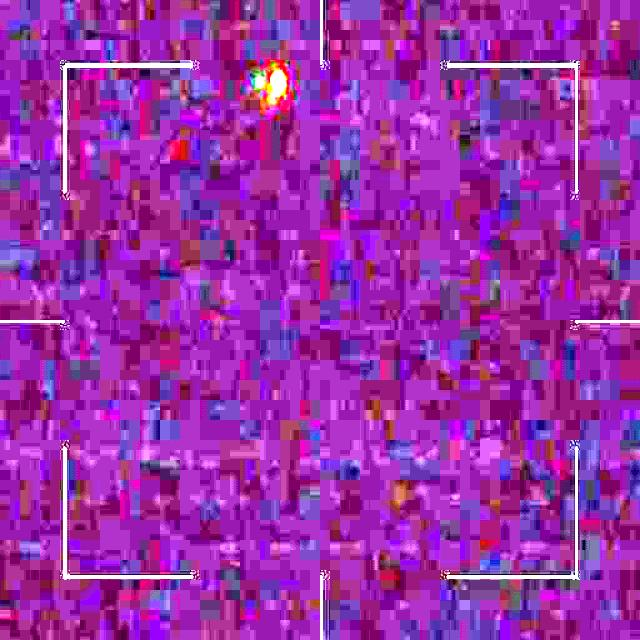bird: (252, 68, 286, 115)
